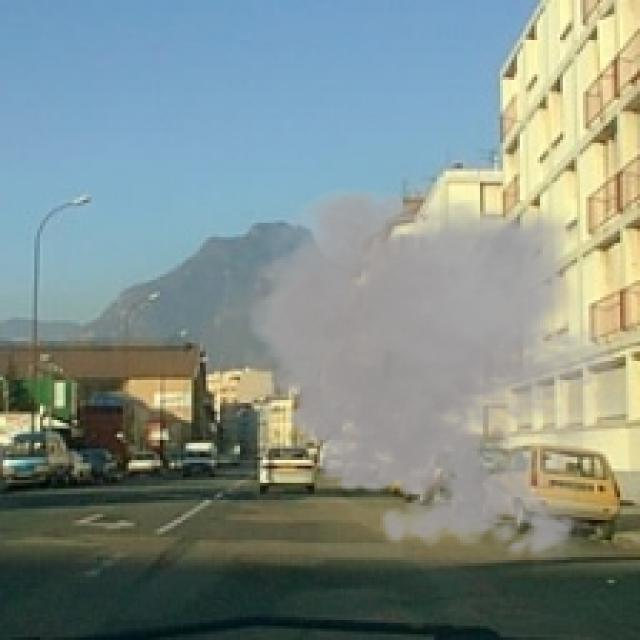Smoke: (234, 174, 637, 572)
